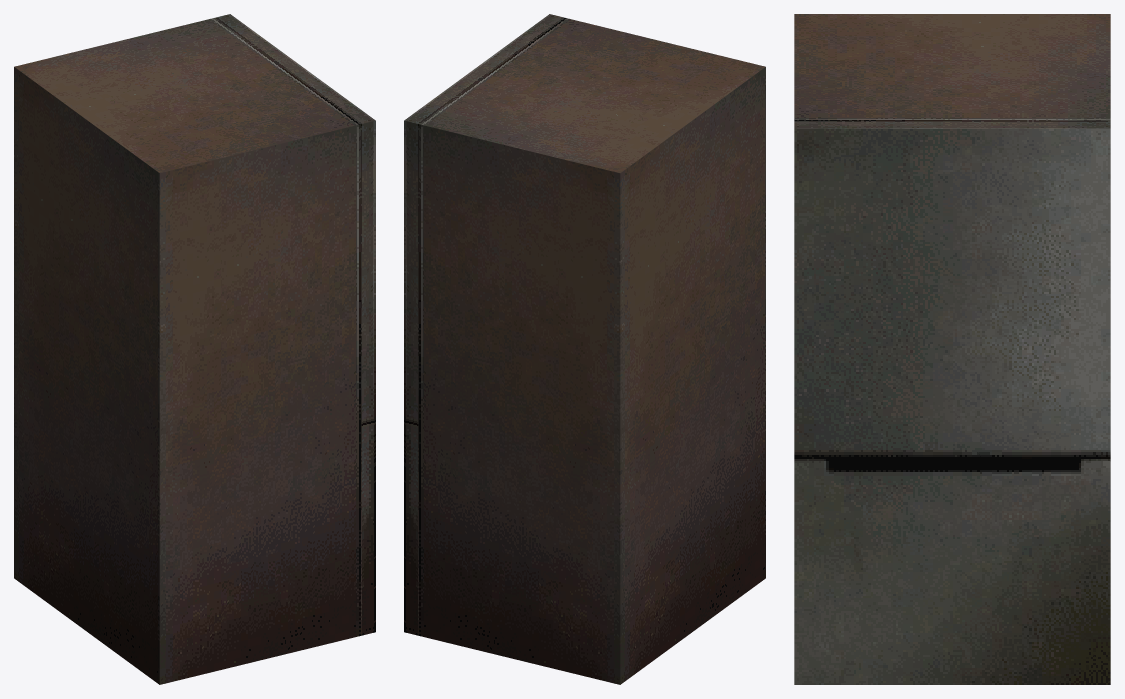
File: fridge.glb
3 renders of one model, left to right at view 1: azimuth 30°, elevation 25°; view 2: azimuth 150°, elevation 25°; view 3: azimuth 270°, elevation 25°, orthographic. The views are drawn at different scales.
Visible parts, largest first — view 1: Fridge; view 2: Fridge; view 3: Fridge.
Boxes of the visible parts, left/top/right/bottom form: Fridge: left=14, top=14, right=375, bottom=684; Fridge: left=404, top=14, right=765, bottom=684; Fridge: left=794, top=14, right=1110, bottom=684.
Bounding box in the file's own units: 0.84 × 1.9 × 0.98.
1 material, 1 textured.
